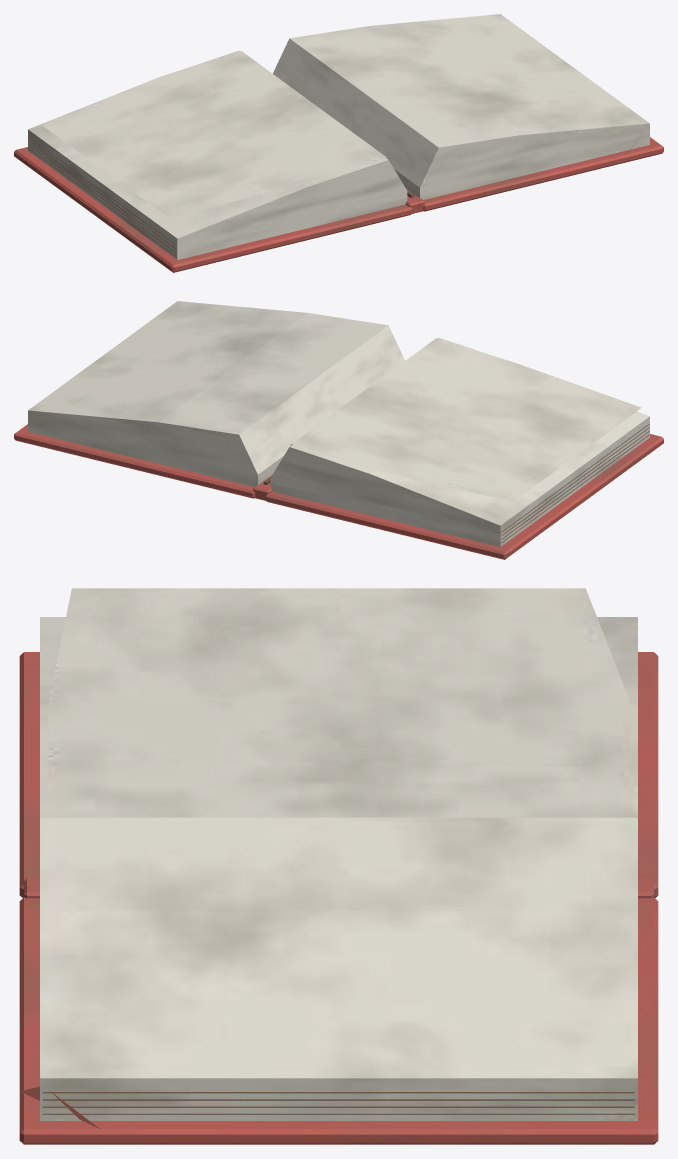
The model's file is D09_open_books_on_floor_v3.glb.
3 renders of one model, top to bottom at view 1: azimuth 30°, elevation 25°; view 2: azimuth 150°, elevation 25°; view 3: azimuth 270°, elevation 25°, orthographic. The views are drawn at different scales.
Parts seen in each view (by area): view 1: Worn cover; view 2: Worn cover; view 3: Worn cover.
Boxes of the visible parts, x1,y1,x2,y2 form: Worn cover: [14, 14, 663, 272]; Worn cover: [14, 301, 663, 559]; Worn cover: [19, 588, 658, 1144].
Size of the model in its own units: 0.4 by 0.0449 by 0.2245.
Materials: 4 (4 with a texture image).
